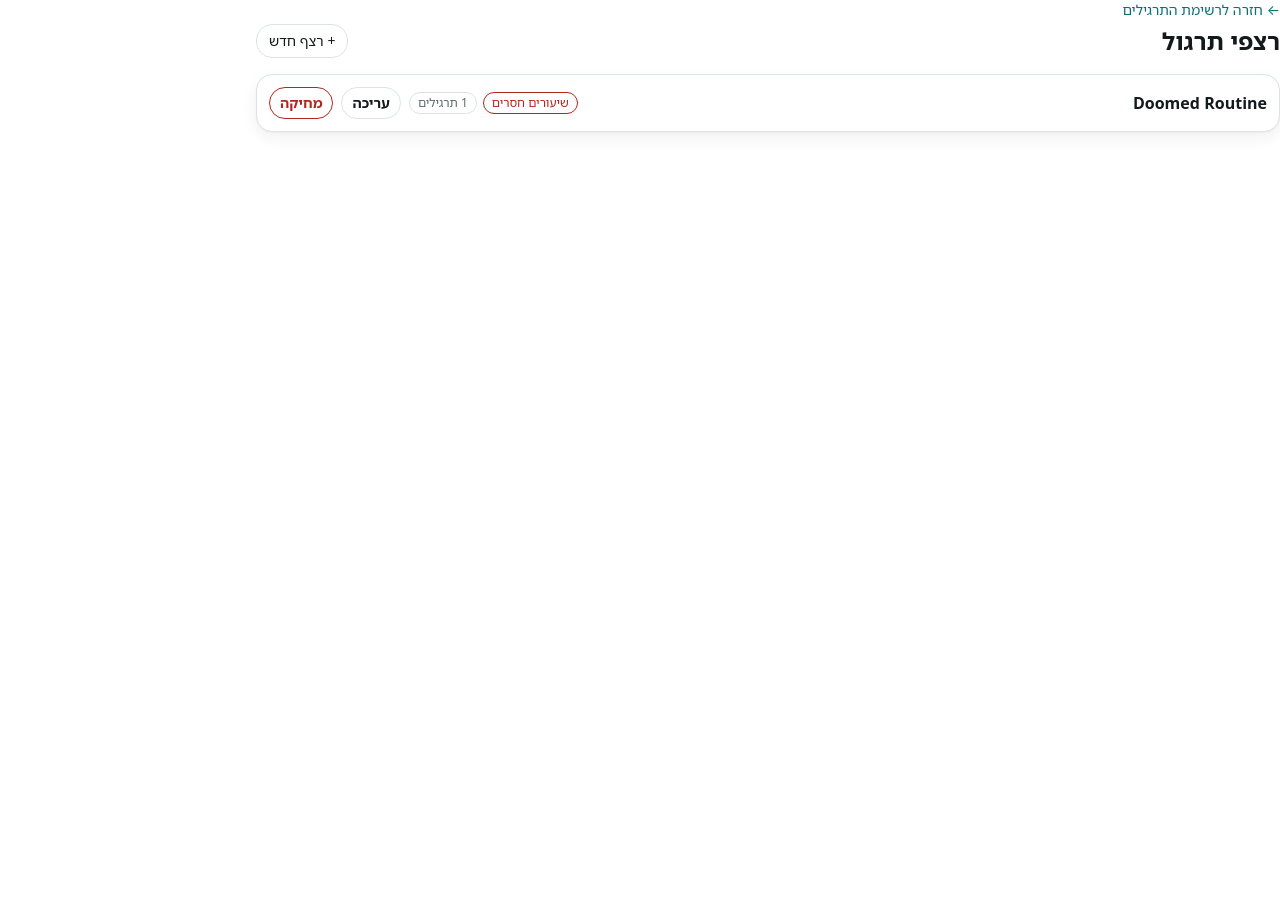
Scenario: RoutineListPage › deletes a routine after confirming
Expected: the text "Doomed Routine" is shown, [1133, 91, 1267, 115]
What coordinates should you click on to do the following:
click the button with aria-label "מחיקת Doomed Routine"
I would click on:
 (301, 103)
Its box is [269, 87, 334, 119].
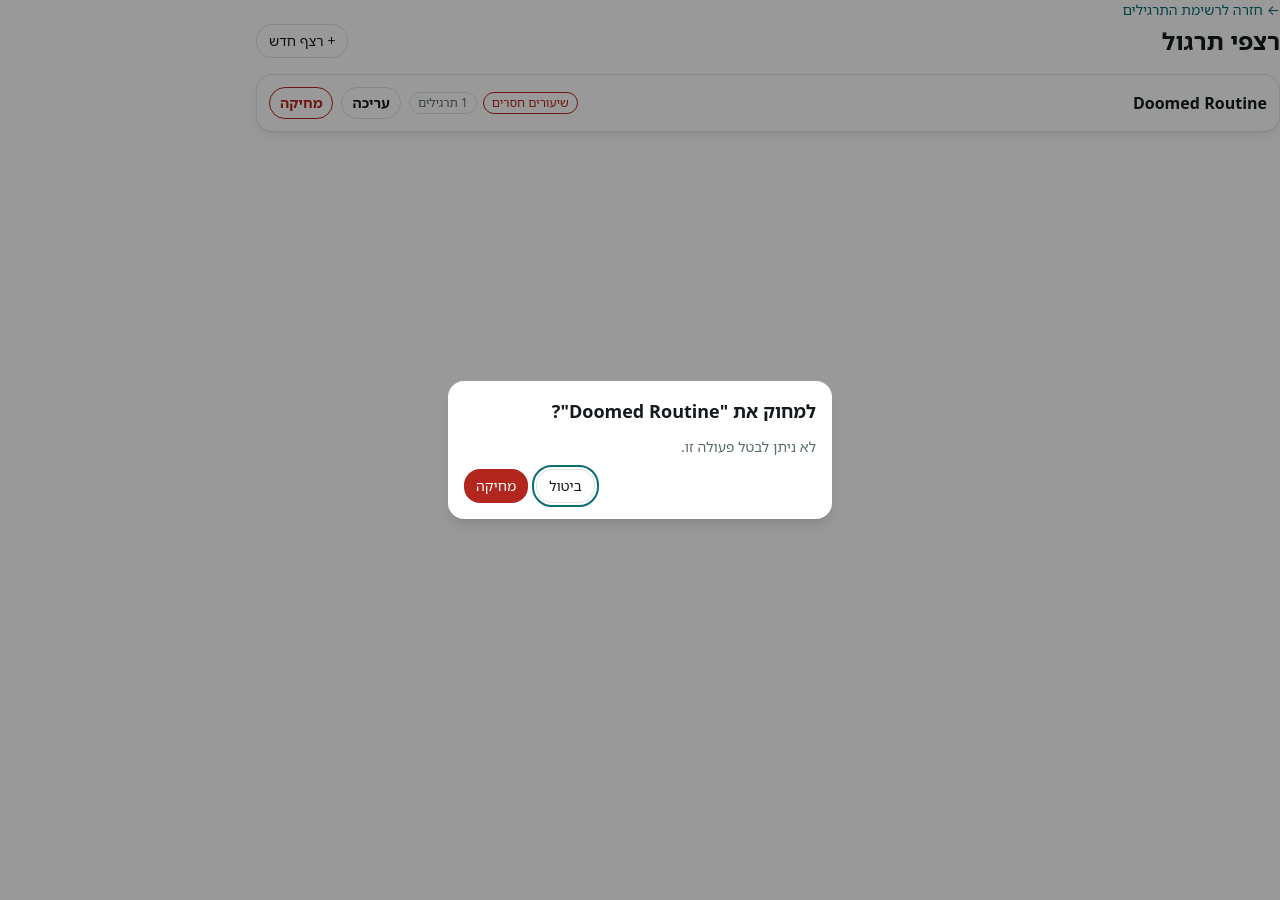
What coordinates should you click on to do the following:
click the button "מחיקה"
I would click on:
 (496, 486)
Its box is [464, 469, 528, 503].
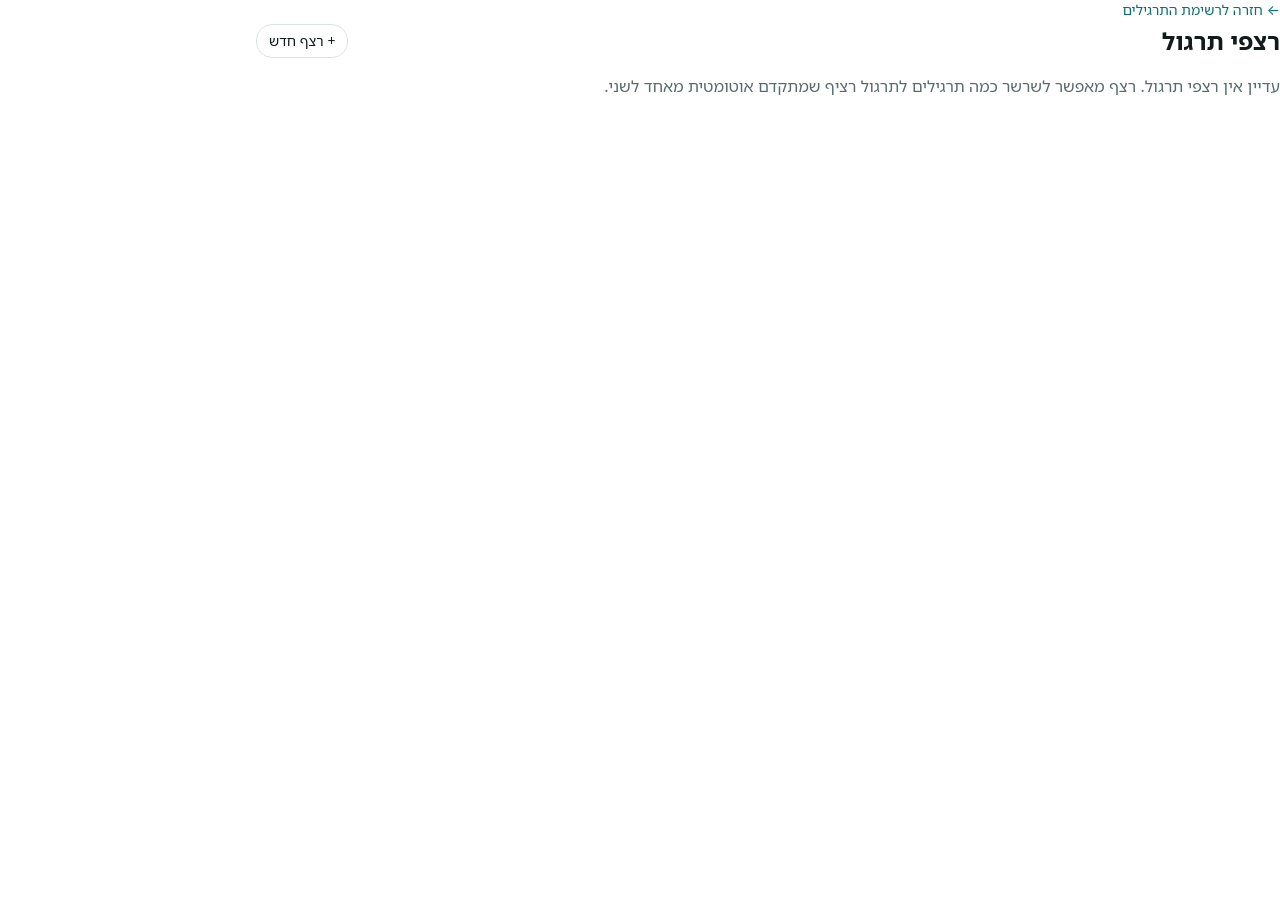
Expected: the link "Doomed Routine" is gone
